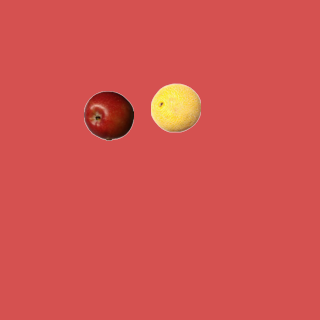Apple Braeburn: (83, 90, 133, 140)
Cantaloupe 1: (150, 82, 200, 132)
